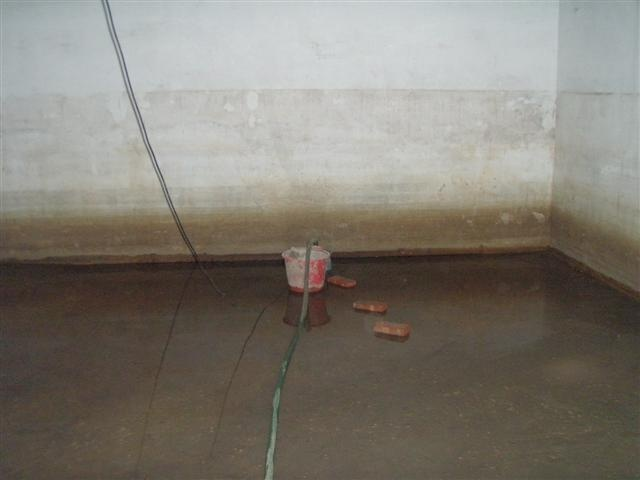bucket: (282, 247, 332, 294)
